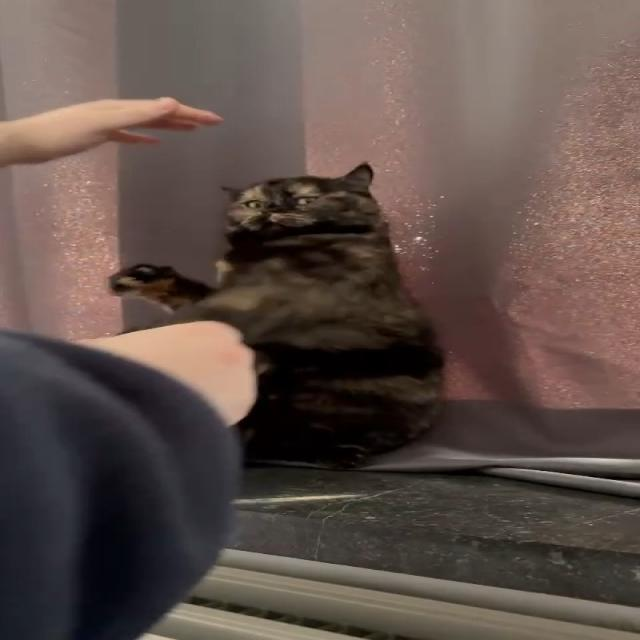authorized: (106, 161, 446, 469)
